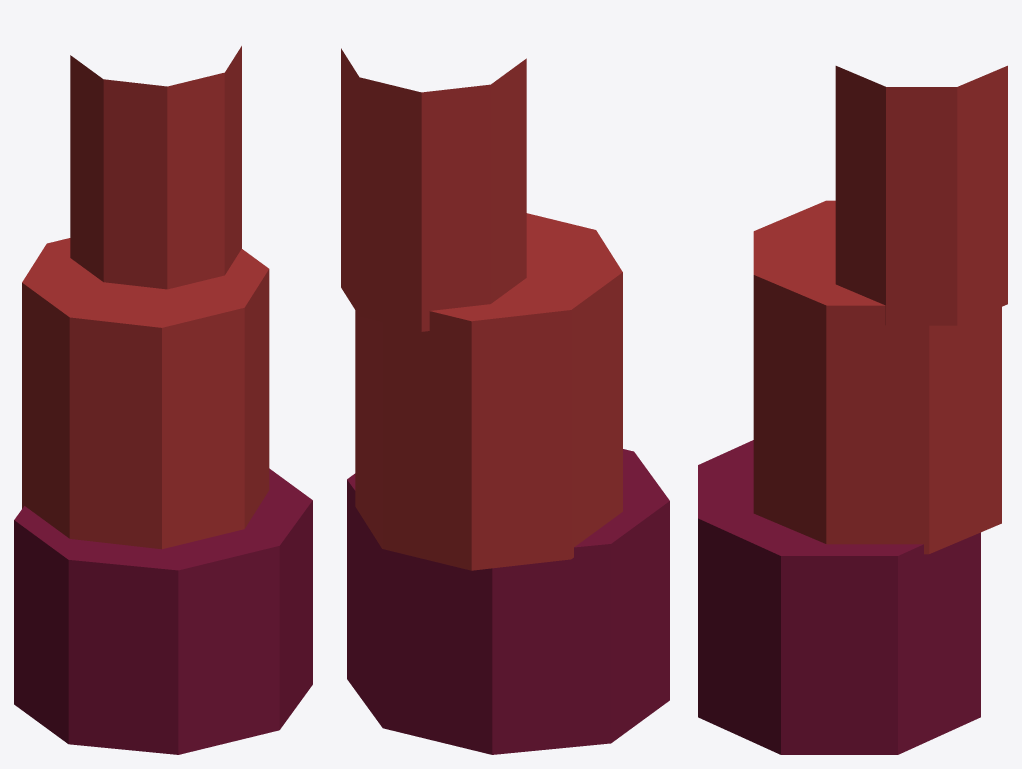
The model's file is golem_armr.glb.
3 views of the same model, side by side, from view 1: azimuth 30°, elevation 25°; view 2: azimuth 150°, elevation 25°; view 3: azimuth 270°, elevation 25° (orthographic). The views are drawn at different scales.
Parts seen in each view (by area): view 1: ArmR; view 2: ArmR; view 3: ArmR.
Part boxes in pixels (bbox=[...]): ArmR: bbox=[14, 46, 312, 754]; ArmR: bbox=[341, 48, 669, 754]; ArmR: bbox=[698, 65, 1007, 754].
Size of the model in its own units: 0.5543 by 1.32 by 0.5648.
